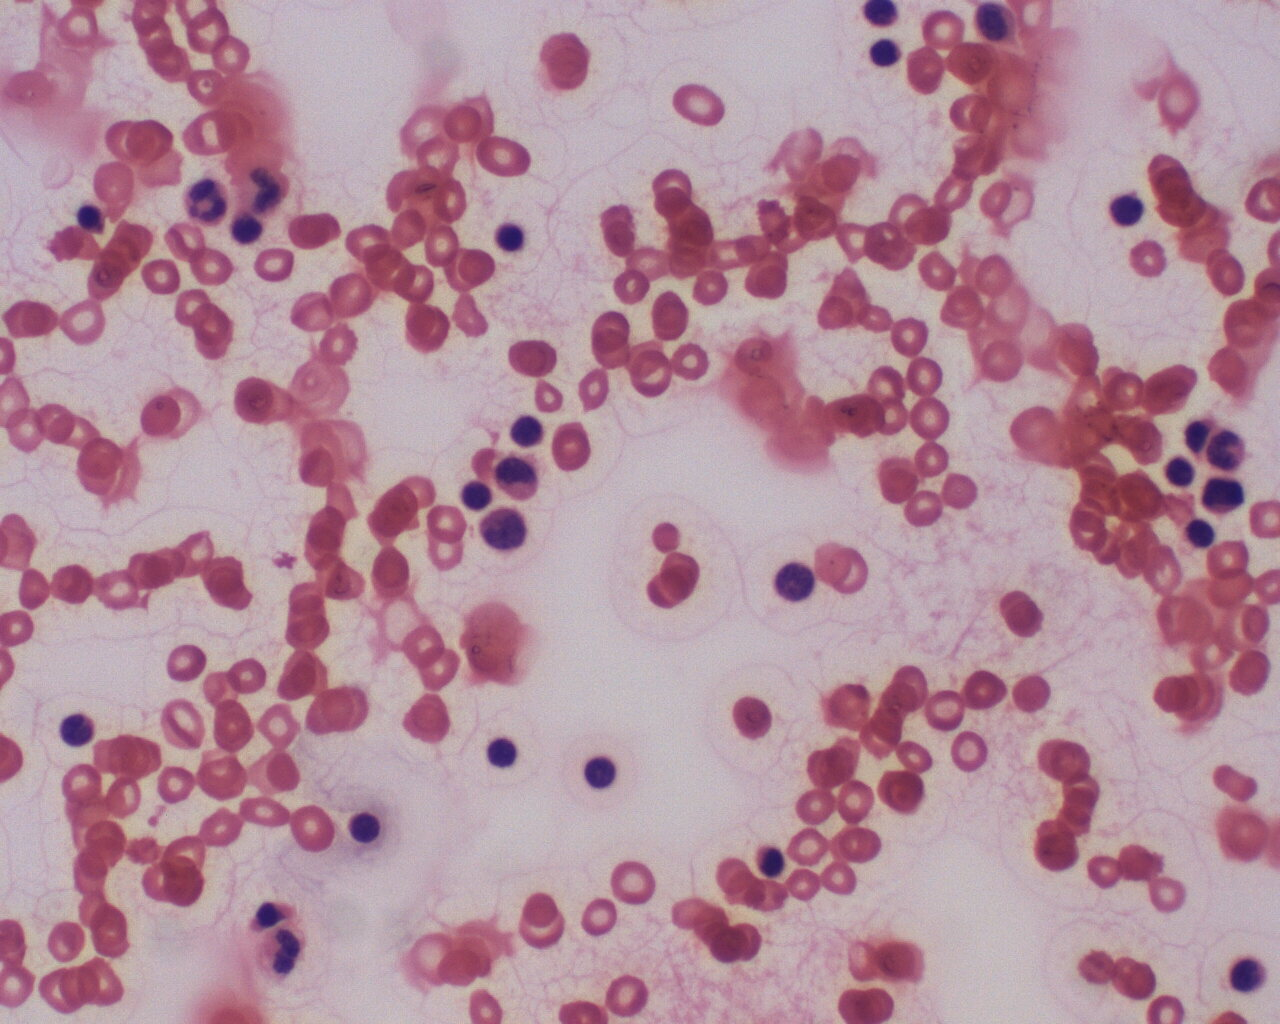lymph: (338, 802, 398, 859), (476, 506, 539, 560), (578, 747, 624, 797), (482, 730, 529, 775), (502, 408, 546, 455), (488, 215, 528, 259), (1178, 511, 1219, 551), (863, 32, 906, 71)
neutro: (178, 174, 234, 225), (55, 706, 104, 752)
